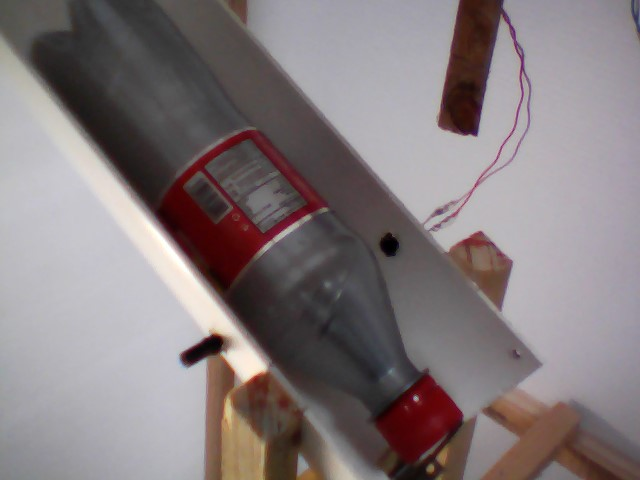plastico: (24, 1, 474, 475)
